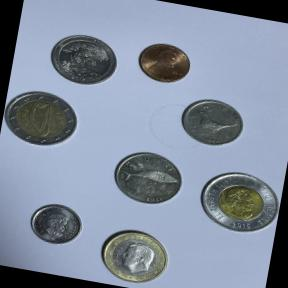coin: (182, 155, 286, 248), (99, 136, 200, 219), (0, 79, 91, 162), (35, 20, 130, 97), (87, 218, 182, 288), (125, 31, 202, 94), (21, 194, 90, 253)
